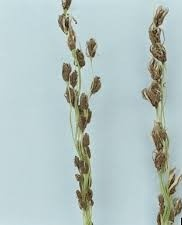Wheat Loose Smut: (54, 5, 113, 205)
